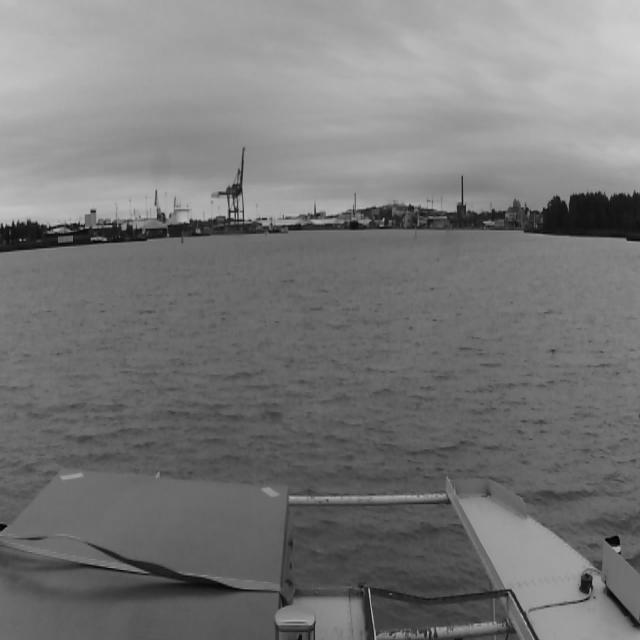ship: (168, 208, 192, 237), (350, 204, 358, 230)
